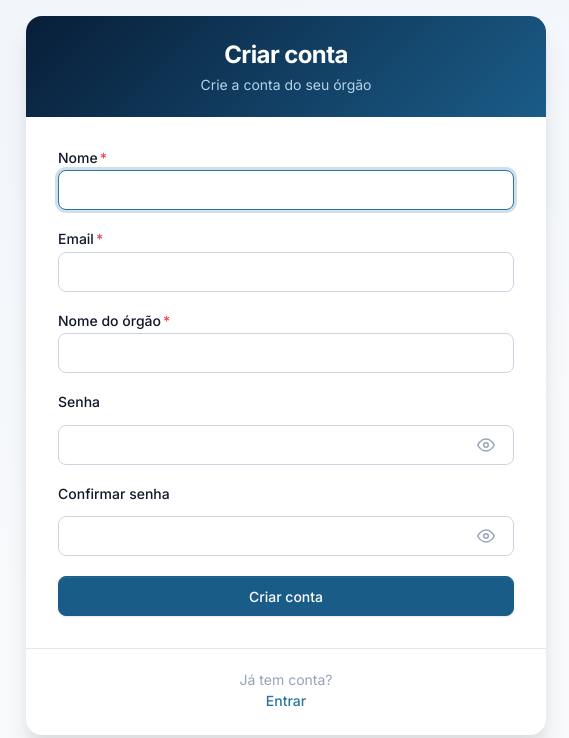
Test case: RegisterPage › shows inline error when passwords do not match
The width and height of the screenshot is (569, 738).
In the password field labelled "Senha": (286, 445) [58,425,514,465], type "Senha@123"
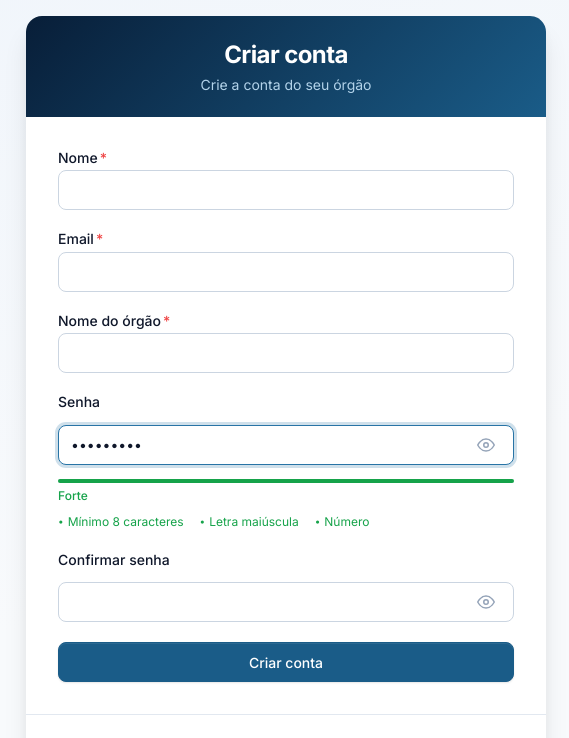
In the password field labelled "Confirmar senha": (286, 602) [58,582,514,622], type "Diferente@1"
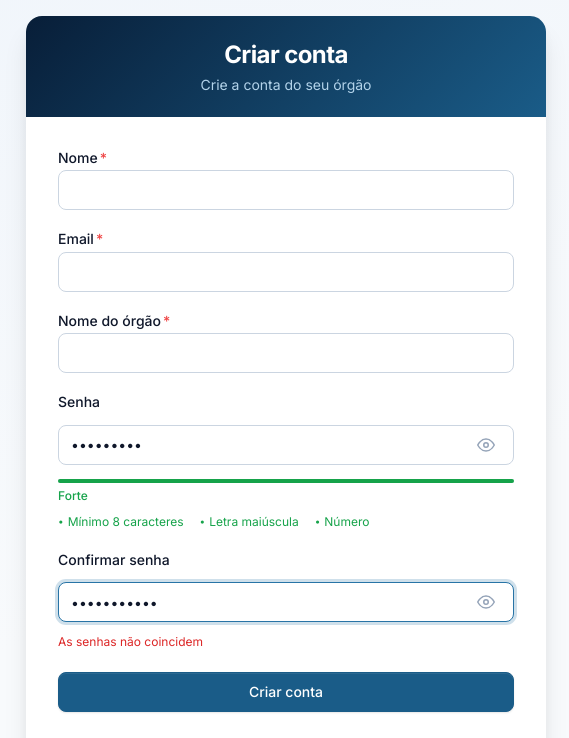
Check: the message reads "As senhas não coincidem", box [58,634,203,649]
